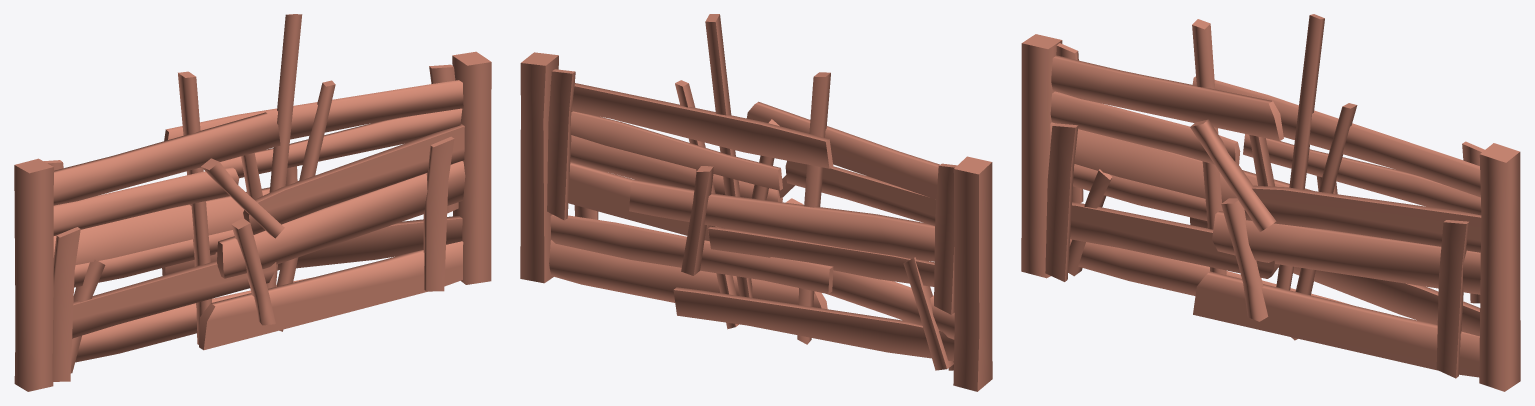
Rendered from prop_wood_f.fbx.
3 renders of one model, left to right at view 1: azimuth 30°, elevation 25°; view 2: azimuth 150°, elevation 25°; view 3: azimuth 330°, elevation 25°, orthographic. The views are drawn at different scales.
Parts seen in each view (by area): view 1: Cube.050; view 2: Cube.050; view 3: Cube.050.
Boxes of the visible parts, x1=… form: Cube.050: x1=14, y1=14, x2=491, y2=391; Cube.050: x1=520, y1=14, x2=992, y2=391; Cube.050: x1=1021, y1=14, x2=1520, y2=391.
Bounding box in the file's own units: 4.3 × 2.78 × 0.4906.
